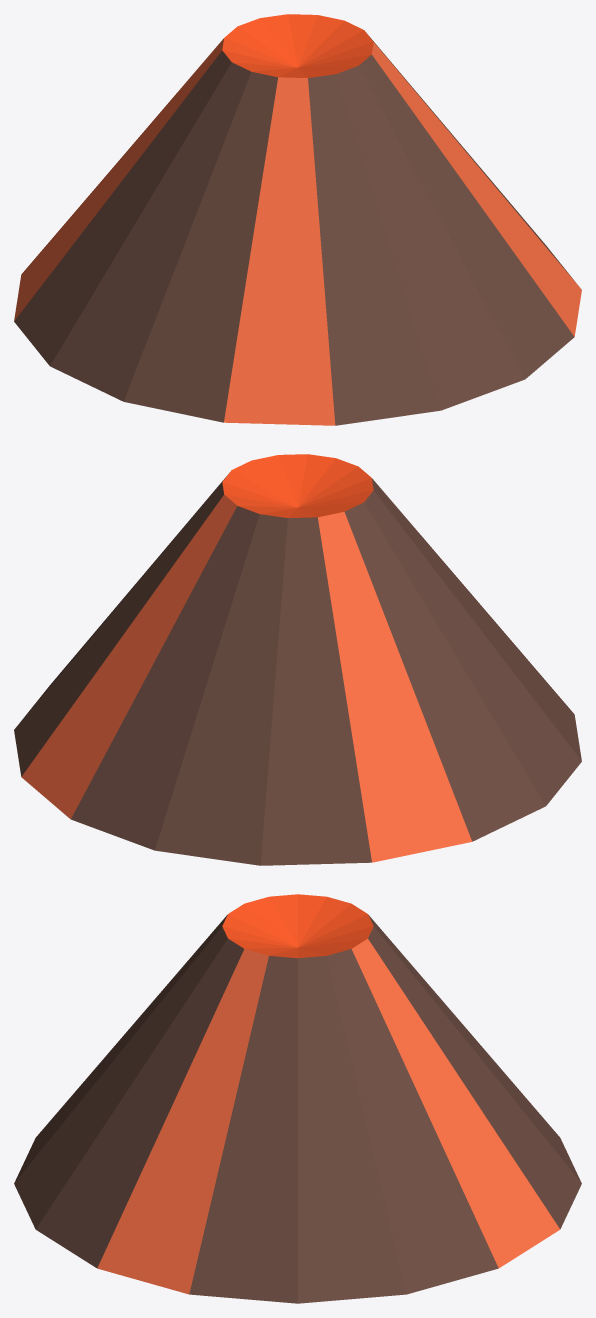
The model's file is vulkan.glb.
3 renders of one model, top to bottom at view 1: azimuth 30°, elevation 25°; view 2: azimuth 150°, elevation 25°; view 3: azimuth 270°, elevation 25°, orthographic.
Parts seen in each view (by area): view 1: vulkan; view 2: vulkan; view 3: vulkan.
Part boxes in pixels (x1,y1,x2,y2): vulkan: (14, 14, 581, 425); vulkan: (14, 454, 581, 865); vulkan: (14, 894, 581, 1303).
Bounding box in the file's own units: 1.2 × 0.6001 × 1.2.
